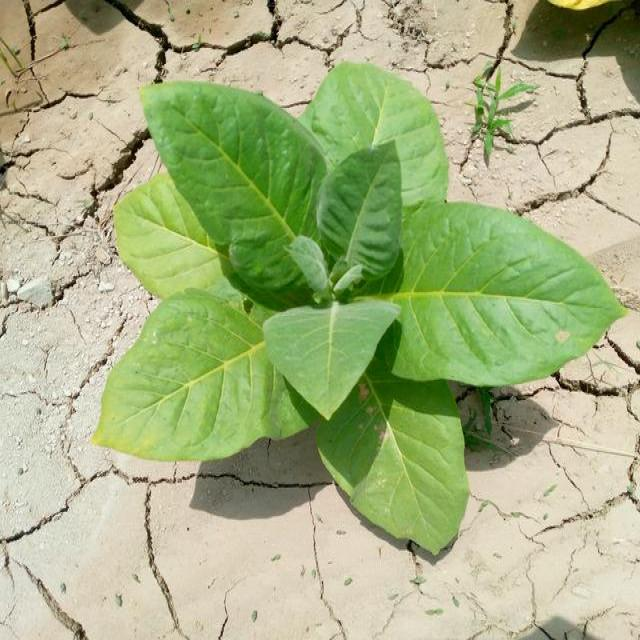crop: (103, 63, 614, 545)
